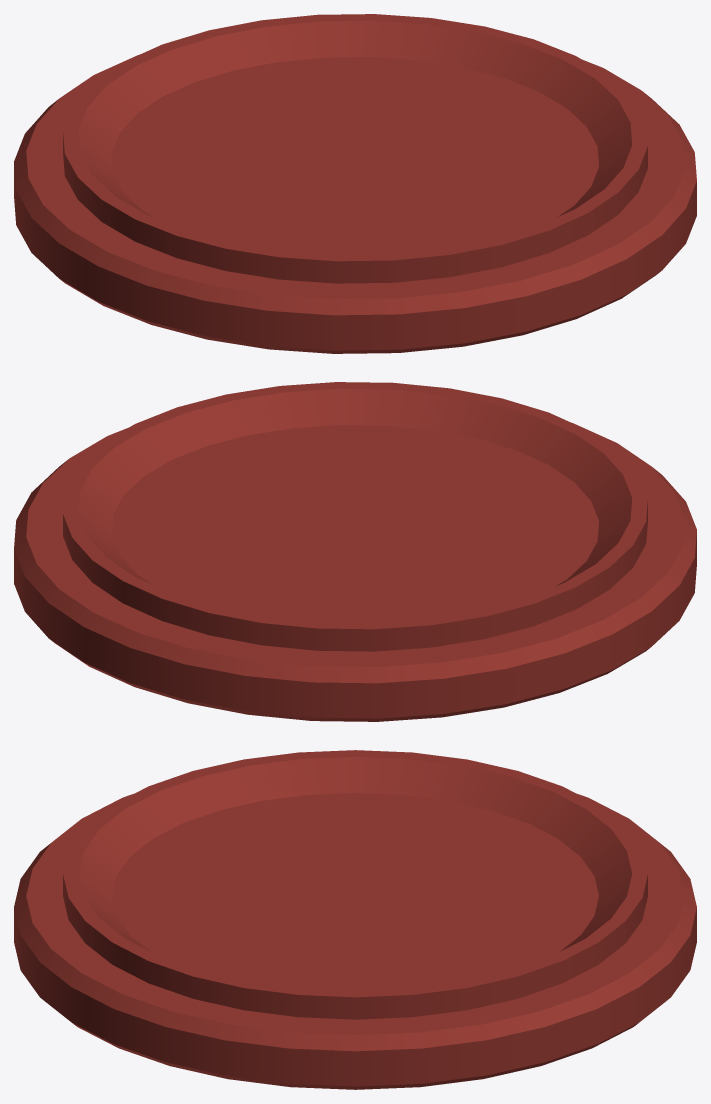
Rendered from ClayTarget.fbx.
3 views of the same model, one above another, from view 1: azimuth 30°, elevation 25°; view 2: azimuth 150°, elevation 25°; view 3: azimuth 270°, elevation 25° (orthographic).
Visible parts, largest first — view 1: ClayTarget; view 2: ClayTarget; view 3: ClayTarget.
Part boxes in pixels (x1,y1,x2,y2): ClayTarget: (14, 14, 696, 353); ClayTarget: (14, 382, 696, 721); ClayTarget: (14, 750, 696, 1089).
Bounding box in the file's own units: 2.8 × 0.3385 × 2.8.
